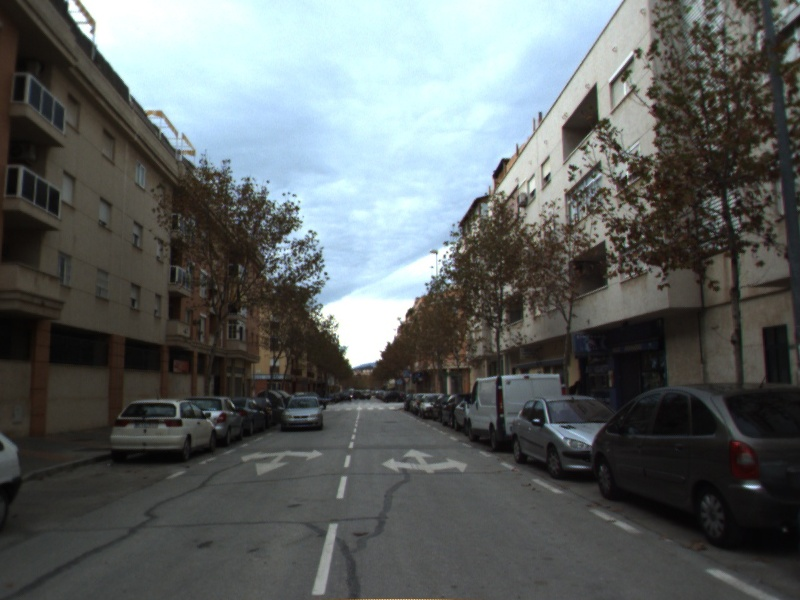STRAIGHT_LEFT_RIGHT: (379, 447, 469, 475)
